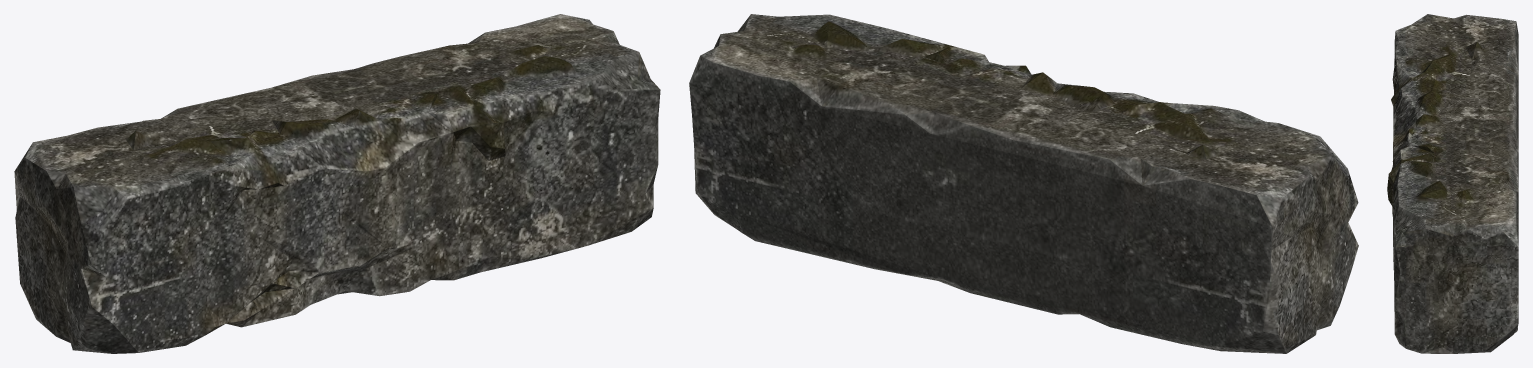
The model's file is kerb.glb.
3 renders of one model, left to right at view 1: azimuth 30°, elevation 25°; view 2: azimuth 150°, elevation 25°; view 3: azimuth 270°, elevation 25°, orthographic. The views are drawn at different scales.
Parts seen in each view (by area): view 1: lo; view 2: lo; view 3: lo.
Boxes of the visible parts, x1,y1,x2,y2 form: lo: (14, 14, 660, 353); lo: (689, 14, 1358, 353); lo: (1387, 14, 1518, 353).
Size of the model in its own units: 0.9989 by 0.2973 by 0.2564.
Materials: 1 (1 with a texture image).
